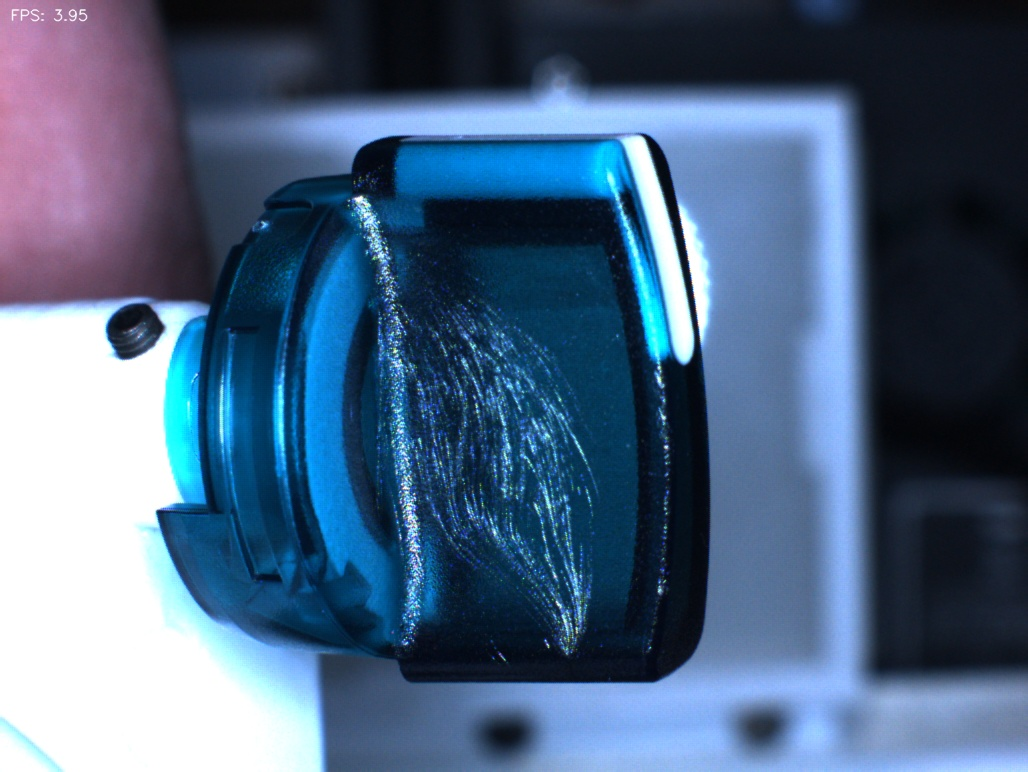Givrage: (397, 284, 609, 652)
